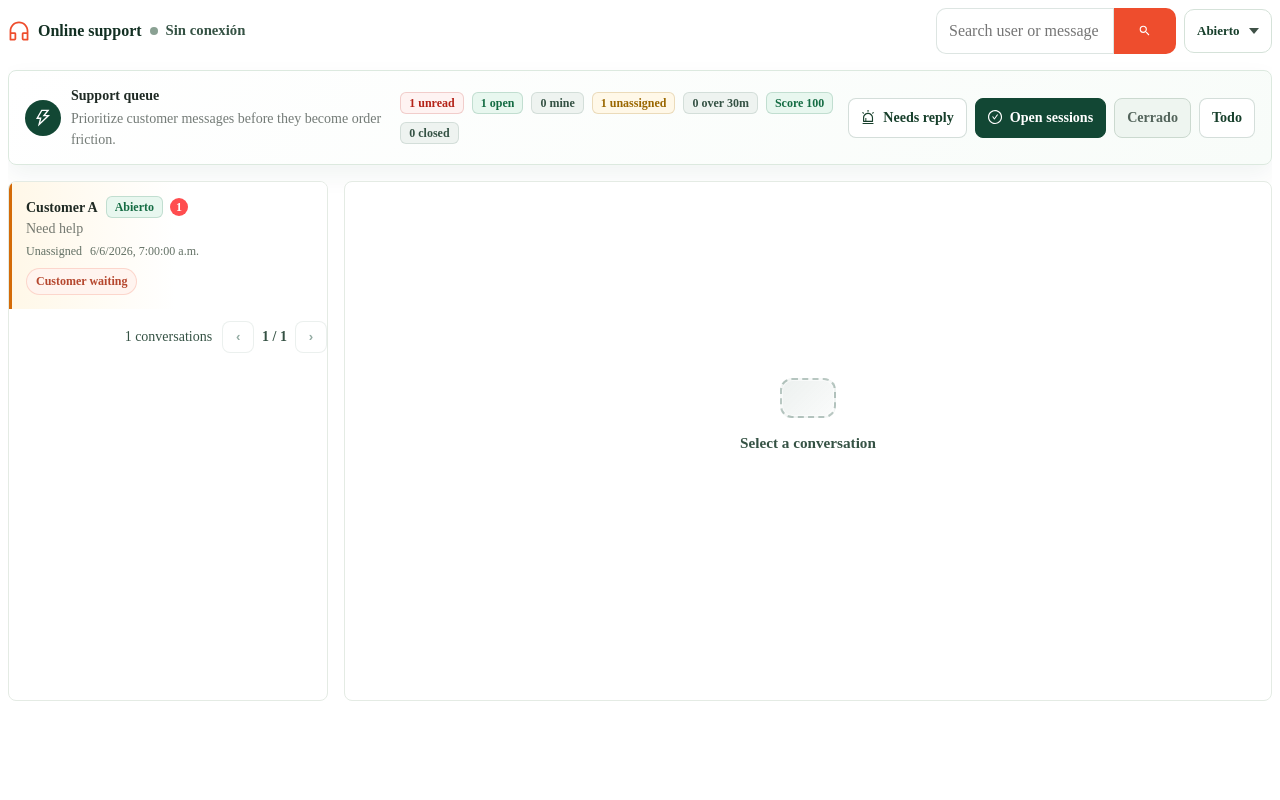
Test: SupportManagement › keeps the reply input visible after an admin selects a conversation without loaded reply permissions
Step 1. Click the button "Customer A" → [168, 245], box [9,182,327,309]
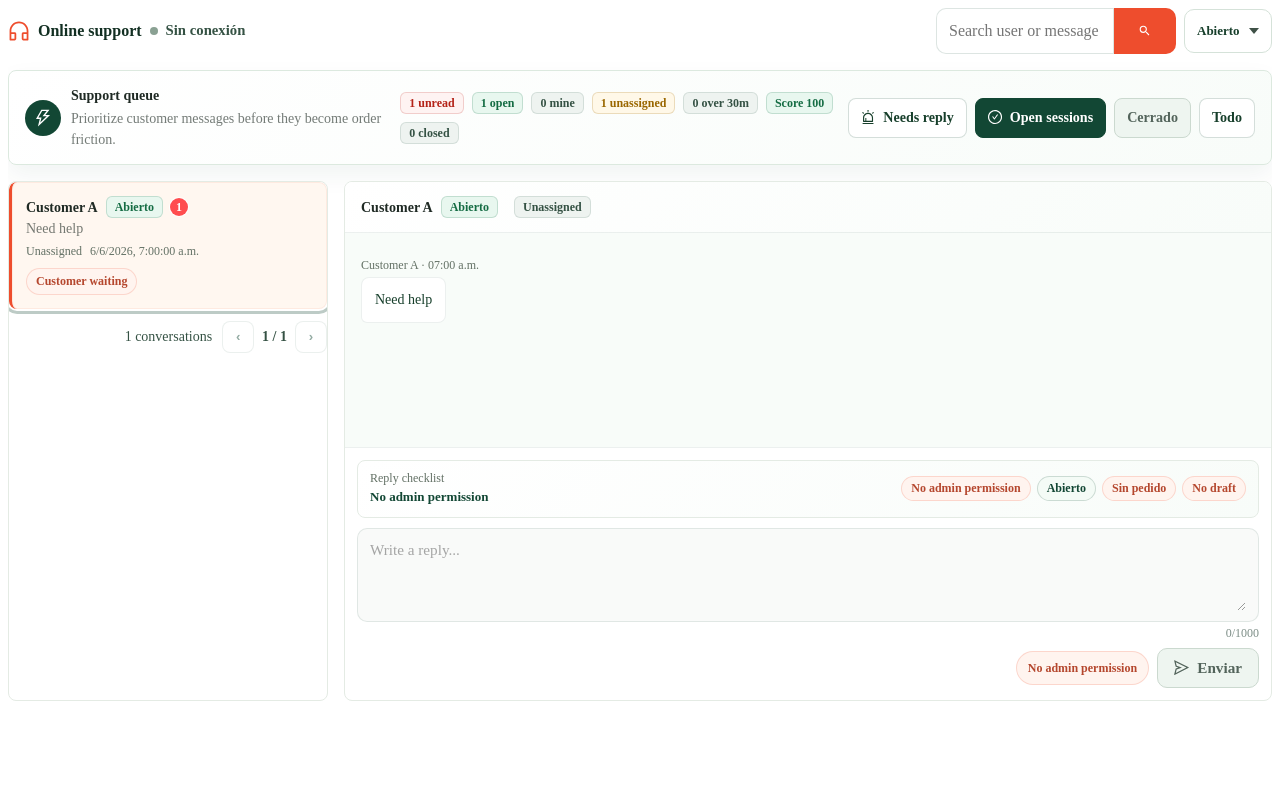
Expected: the text box named "Customer A" is disabled, [370,539,1246,611]
Expected: the text "No admin permission" below "Reply checklist" is shown, [370,489,488,504]
